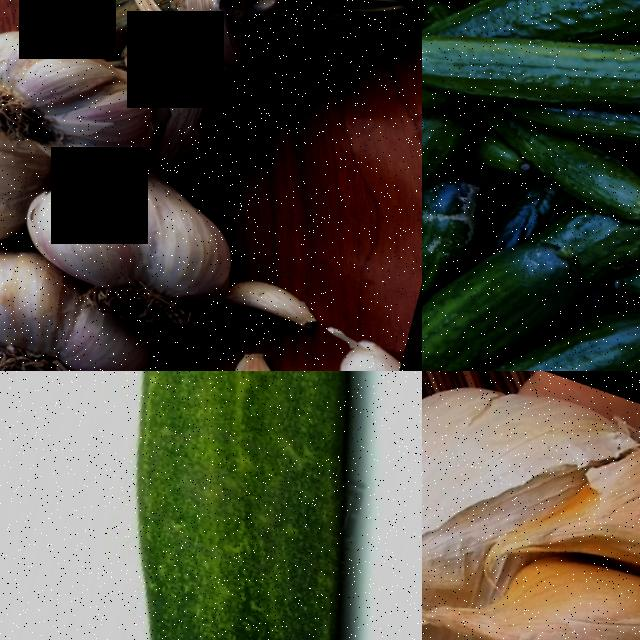cucumber: (47, 371, 422, 640), (422, 0, 640, 155), (433, 206, 596, 368), (498, 106, 640, 227), (500, 261, 640, 371), (534, 0, 640, 55)
garlic: (422, 371, 640, 640), (17, 143, 245, 317), (0, 0, 164, 167), (0, 221, 166, 371), (0, 68, 54, 250), (221, 256, 326, 322), (323, 312, 407, 371), (221, 331, 313, 371)
